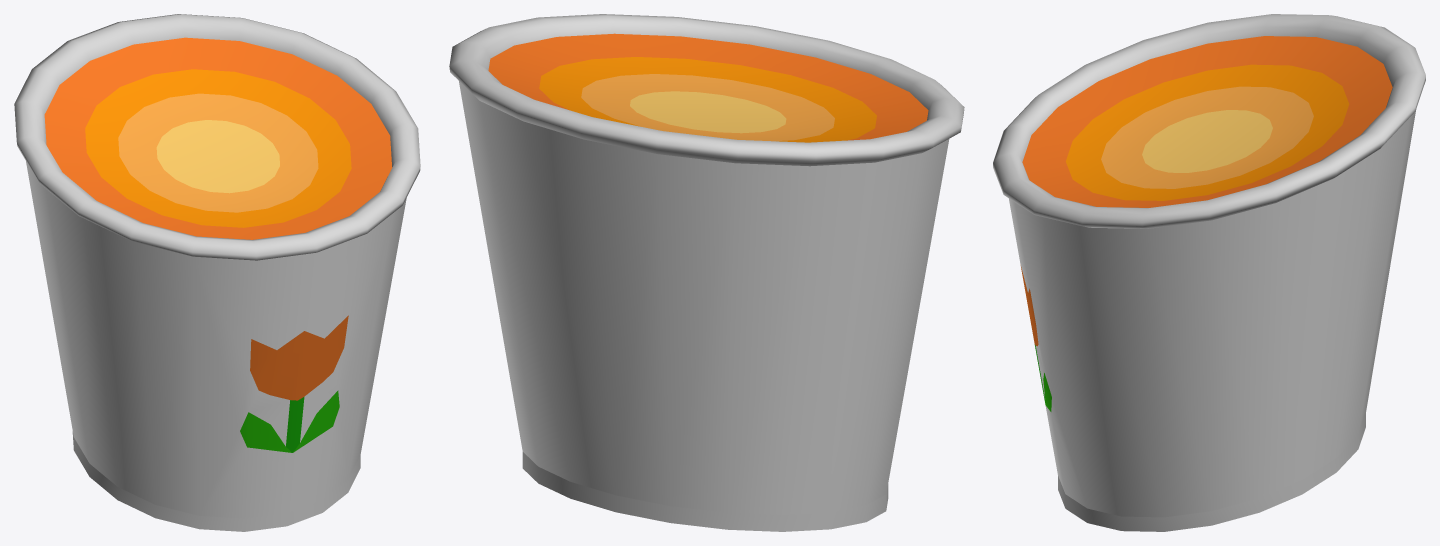
The model's file is D_FBX_08_Portal_A.fbx.
3 renders of one model, left to right at view 1: azimuth 30°, elevation 25°; view 2: azimuth 150°, elevation 25°; view 3: azimuth 270°, elevation 25°, orthographic. The views are drawn at different scales.
Visible parts, largest first — view 1: D_FBX_08_Portal_A; view 2: D_FBX_08_Portal_A; view 3: D_FBX_08_Portal_A.
Part boxes in pixels (<box>): D_FBX_08_Portal_A: <box>14,14,420,531</box>; D_FBX_08_Portal_A: <box>449,14,964,531</box>; D_FBX_08_Portal_A: <box>993,14,1425,531</box>.
Bounding box in the file's own units: 236 × 242 × 227.
